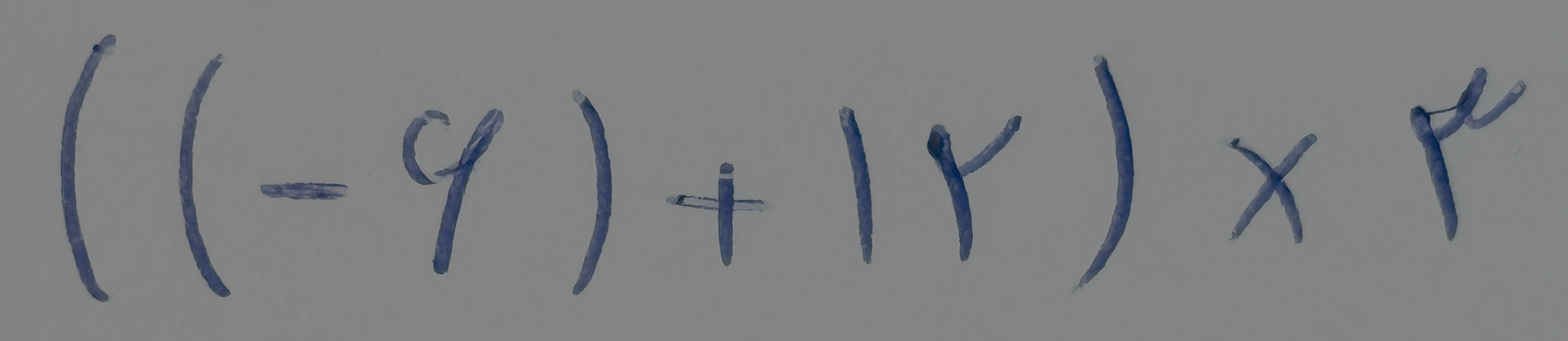character: (1410, 66, 1526, 241), (402, 107, 505, 275), (1070, 54, 1134, 296), (59, 33, 116, 302), (926, 114, 1021, 263), (179, 53, 232, 298), (666, 161, 770, 268), (1222, 132, 1318, 245), (569, 89, 614, 296), (838, 106, 874, 266), (258, 182, 347, 201)
